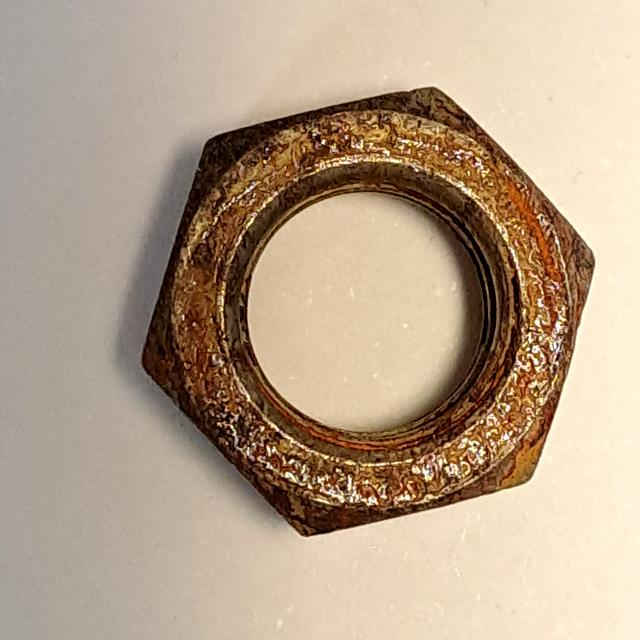Rust: (130, 62, 608, 559)
